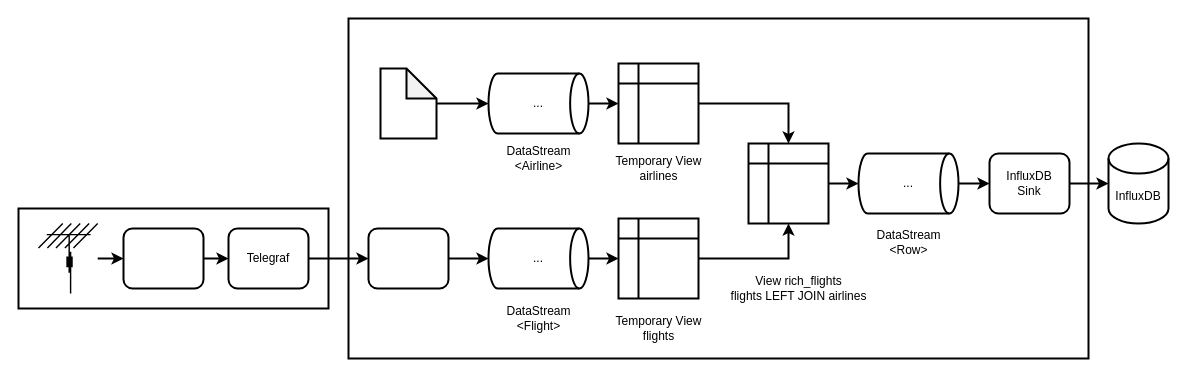
Some shapes in this 1186 by 376 pixel diagram are drawn without their labels. The centre of each missing label's shape, as x and y in pixels:
Airlines: point 408,103
Decoder: point 163,258
InfluxDB Source: point 408,258
